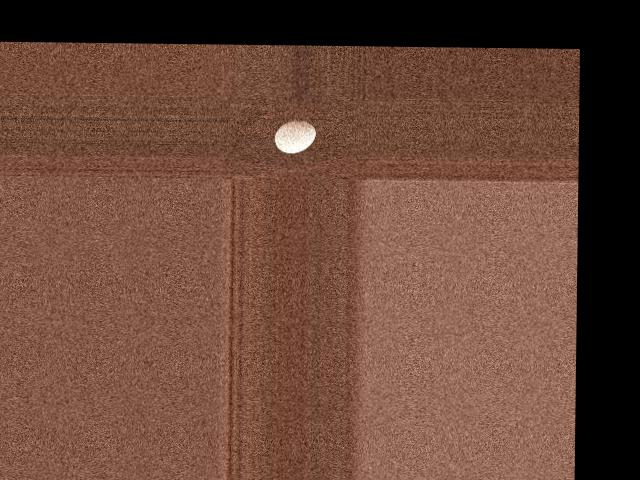egg: (275, 120, 316, 153)
